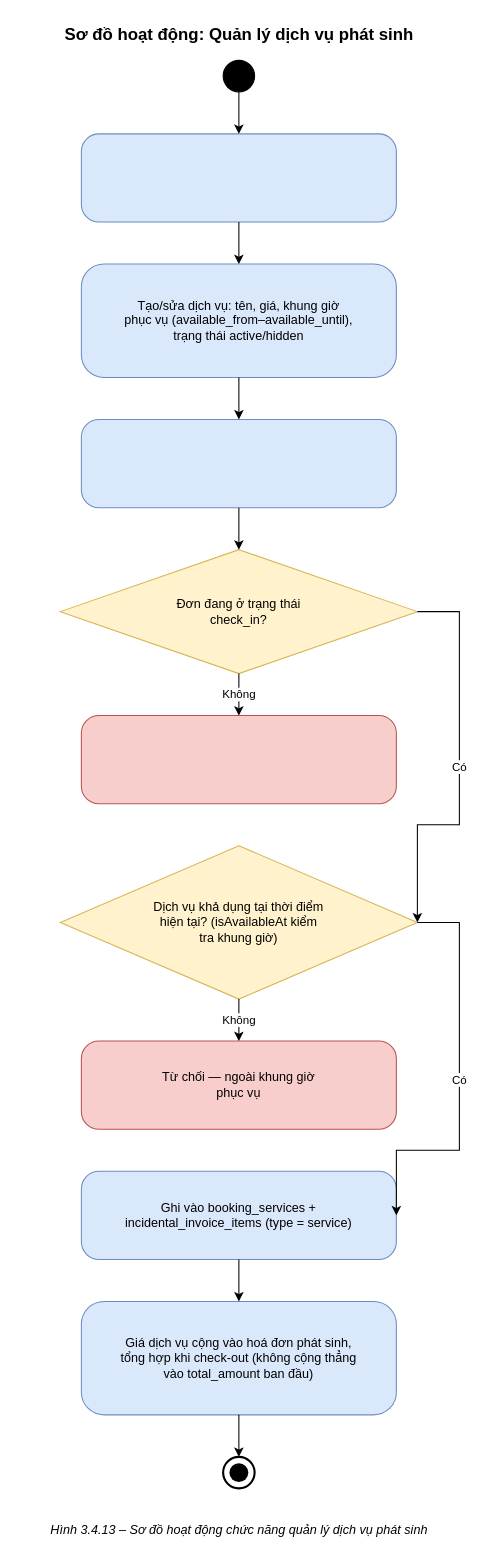
Some shapes in this 486 by 1563 pixel diagram are drawn without their labels. Here are the shapes that lost their labels. From the top down, the box of each, then its label:
(80, 133, 396, 222): Admin mở /admin/services (chỉ admin có quyền CRUD, staff không có)
(80, 418, 396, 508): Trong thời gian khách lưu trú, Staff/Admin gắn dịch vụ vào đơn
(80, 715, 396, 804): Từ chối — chỉ áp dụng cho đơn đang lưu trú
